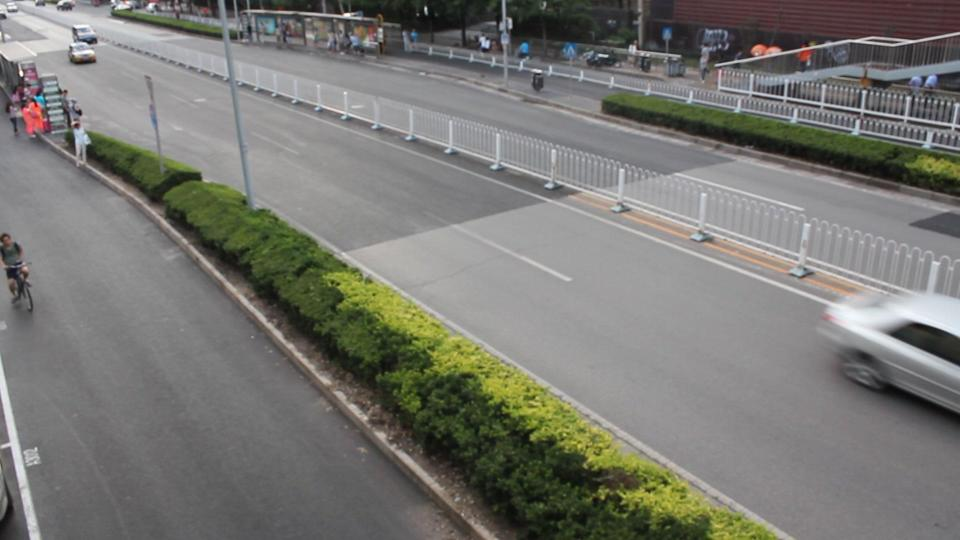bicycle: (7, 264, 34, 312)
car: (813, 290, 960, 416), (67, 42, 97, 64), (71, 24, 99, 44), (1, 1, 19, 13)
person: (0, 233, 29, 298), (796, 40, 815, 73), (36, 0, 45, 7)
